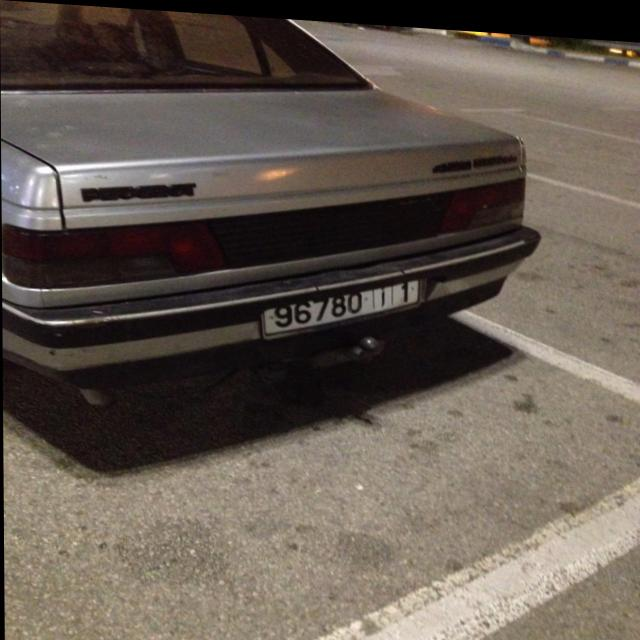License-Plate: (262, 274, 420, 333)
